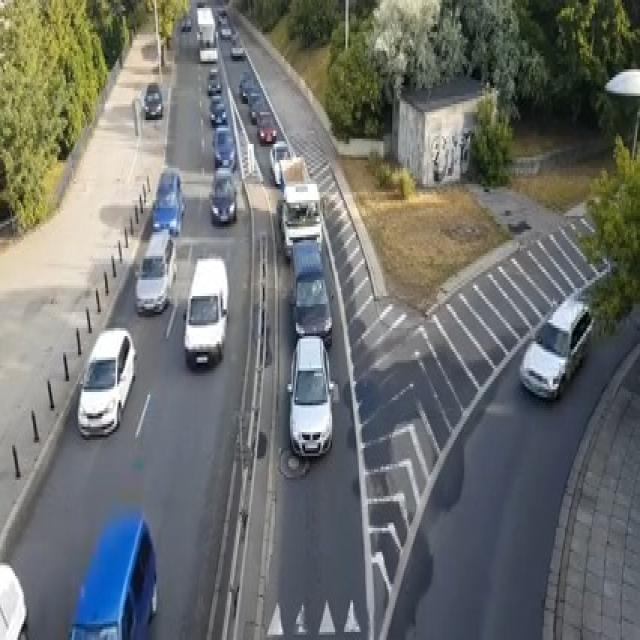car: (68, 512, 158, 637), (518, 296, 594, 400), (76, 326, 136, 438), (286, 333, 334, 459), (182, 256, 228, 368), (288, 240, 332, 344), (134, 226, 176, 314), (280, 181, 322, 259), (0, 560, 29, 637), (152, 168, 185, 235), (209, 165, 236, 224), (212, 122, 236, 170), (269, 139, 290, 184), (140, 83, 162, 117), (198, 24, 218, 61), (256, 109, 276, 144), (195, 5, 215, 40), (209, 93, 227, 123), (239, 70, 255, 102), (249, 96, 266, 123), (206, 67, 221, 93), (230, 34, 245, 59), (180, 13, 191, 30), (220, 24, 232, 37), (195, 0, 207, 5)
